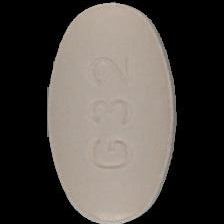49999-049: (0, 0, 224, 224)
